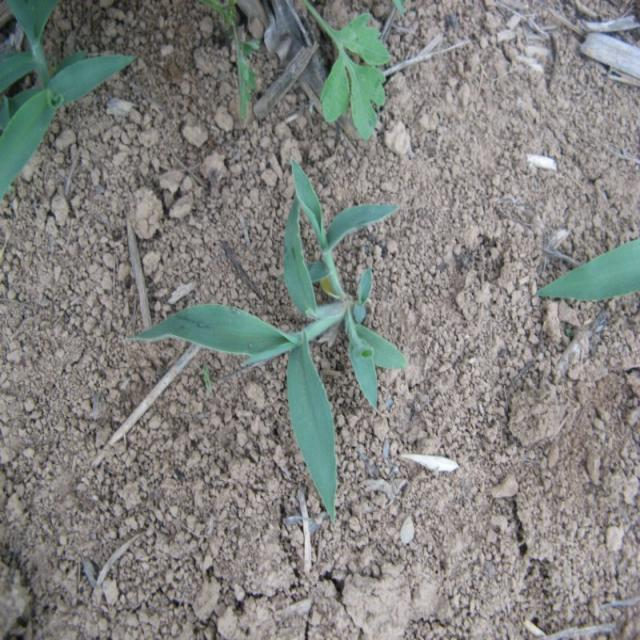bg: (130, 164, 416, 511)
